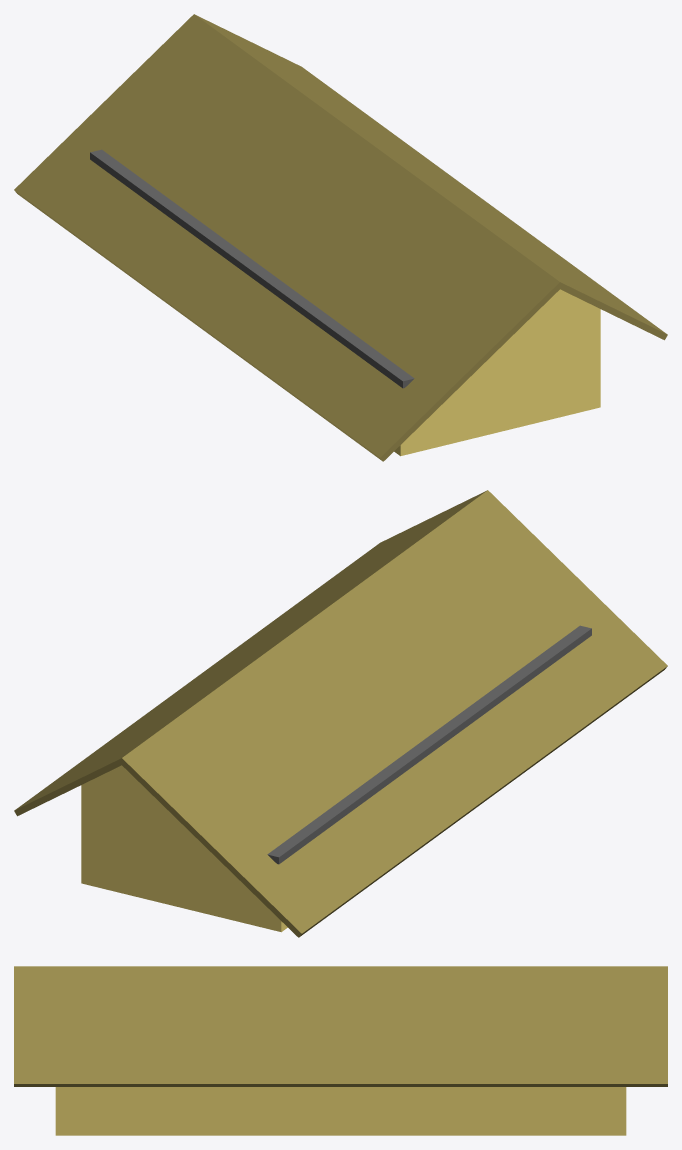
File: result.glb
3 renders of one model, top to bottom at view 1: azimuth 30°, elevation 25°; view 2: azimuth 150°, elevation 25°; view 3: azimuth 270°, elevation 25°, orthographic. The views are drawn at different scales.
Parts seen in each view (by area): view 1: 2c46146b-b6e2-4736-91c0-935bba3bb7c1__undefined (×2), 1a9ab87e-0462-44d0-a5f6-0d4b32a2b824__undefined, 6dfa3bb4-59a3-47e5-b72e-34b2143a27e4__Box; view 2: 2c46146b-b6e2-4736-91c0-935bba3bb7c1__undefined (×2), 1a9ab87e-0462-44d0-a5f6-0d4b32a2b824__undefined, 6dfa3bb4-59a3-47e5-b72e-34b2143a27e4__Box; view 3: 2c46146b-b6e2-4736-91c0-935bba3bb7c1__undefined, 1a9ab87e-0462-44d0-a5f6-0d4b32a2b824__undefined.
Boxes of the visible parts, box(x1,y1,x2,y2) form: 2c46146b-b6e2-4736-91c0-935bba3bb7c1__undefined (×2): box(14, 14, 667, 461); 1a9ab87e-0462-44d0-a5f6-0d4b32a2b824__undefined: box(394, 289, 600, 456); 6dfa3bb4-59a3-47e5-b72e-34b2143a27e4__Box: box(90, 149, 414, 388); 2c46146b-b6e2-4736-91c0-935bba3bb7c1__undefined (×2): box(14, 490, 667, 937); 1a9ab87e-0462-44d0-a5f6-0d4b32a2b824__undefined: box(81, 765, 287, 932); 6dfa3bb4-59a3-47e5-b72e-34b2143a27e4__Box: box(267, 625, 591, 864); 2c46146b-b6e2-4736-91c0-935bba3bb7c1__undefined: box(14, 966, 667, 1086); 1a9ab87e-0462-44d0-a5f6-0d4b32a2b824__undefined: box(55, 1087, 626, 1135).
Size of the model in its own units: 1271 by 667 by 2799.
